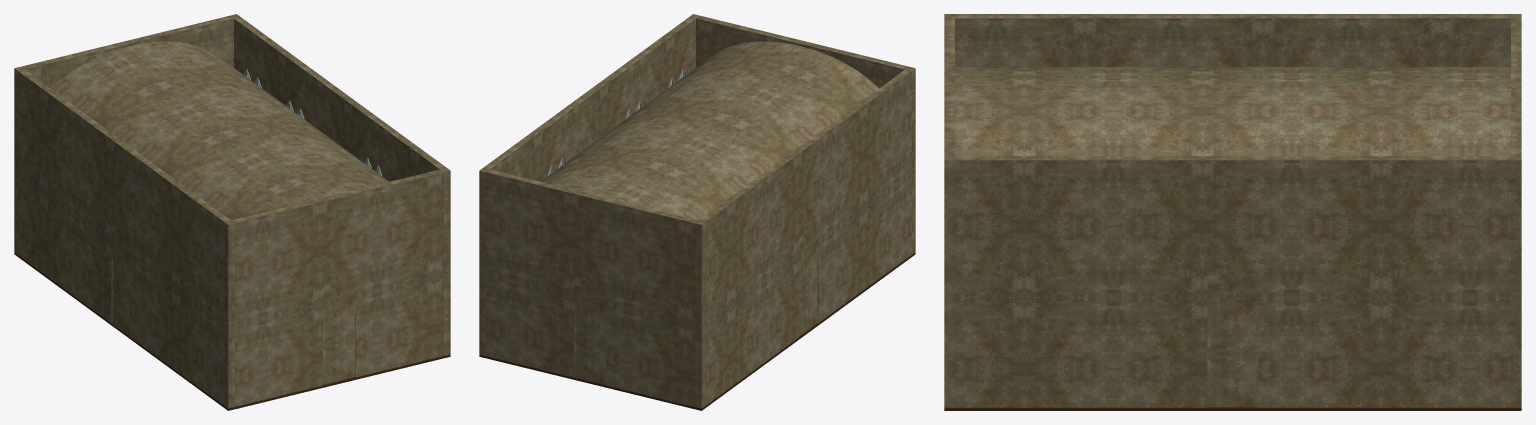
File: Capela.glb
3 views of the same model, side by side, from view 1: azimuth 30°, elevation 25°; view 2: azimuth 150°, elevation 25°; view 3: azimuth 270°, elevation 25° (orthographic). The views are drawn at different scales.
Parts seen in each view (by area): view 1: Parede_O__Reboco, Parede_S__Reboco, Teto_abobadado__Reboco, Parede_L__Reboco, Parede_N__Reboco, Fecho_S__Reboco, Piso__Ebanizada, Fecho_O__Reboco; view 2: Parede_N__Reboco, Parede_O__Reboco, Teto_abobadado__Reboco, Parede_L__Reboco, Parede_S__Reboco, Fecho_N__Reboco, Piso__Ebanizada, Fecho_O__Reboco; view 3: Parede_L__Reboco, Teto_abobadado__Reboco, Parede_O__Reboco, Fecho_L__Reboco, Parede_S__Reboco, Parede_N__Reboco, Piso__Ebanizada.
Boxes of the visible parts, x1,y1,x2,y2 form: Parede_O__Reboco: [14, 67, 234, 408]; Parede_S__Reboco: [224, 169, 450, 407]; Teto_abobadado__Reboco: [51, 41, 389, 220]; Parede_L__Reboco: [230, 14, 450, 355]; Parede_N__Reboco: [14, 14, 236, 253]; Fecho_S__Reboco: [323, 314, 355, 384]; Piso__Ebanizada: [14, 252, 450, 410]; Fecho_O__Reboco: [112, 260, 130, 335]; Parede_N__Reboco: [479, 169, 705, 408]; Parede_O__Reboco: [695, 67, 915, 407]; Teto_abobadado__Reboco: [540, 41, 878, 220]; Parede_L__Reboco: [479, 14, 699, 355]; Parede_S__Reboco: [692, 14, 915, 253]; Fecho_N__Reboco: [574, 314, 606, 384]; Piso__Ebanizada: [479, 252, 915, 410]; Fecho_O__Reboco: [799, 260, 817, 335]; Parede_L__Reboco: [944, 156, 1521, 407]; Teto_abobadado__Reboco: [955, 67, 1510, 155]; Parede_O__Reboco: [944, 14, 1521, 66]; Fecho_L__Reboco: [1207, 322, 1258, 407]; Parede_S__Reboco: [944, 14, 954, 407]; Parede_N__Reboco: [1511, 14, 1521, 407]; Piso__Ebanizada: [944, 407, 1521, 410].
Size of the model in its own units: 33 by 26.36 by 55.
Materials: 13 (13 with a texture image).
